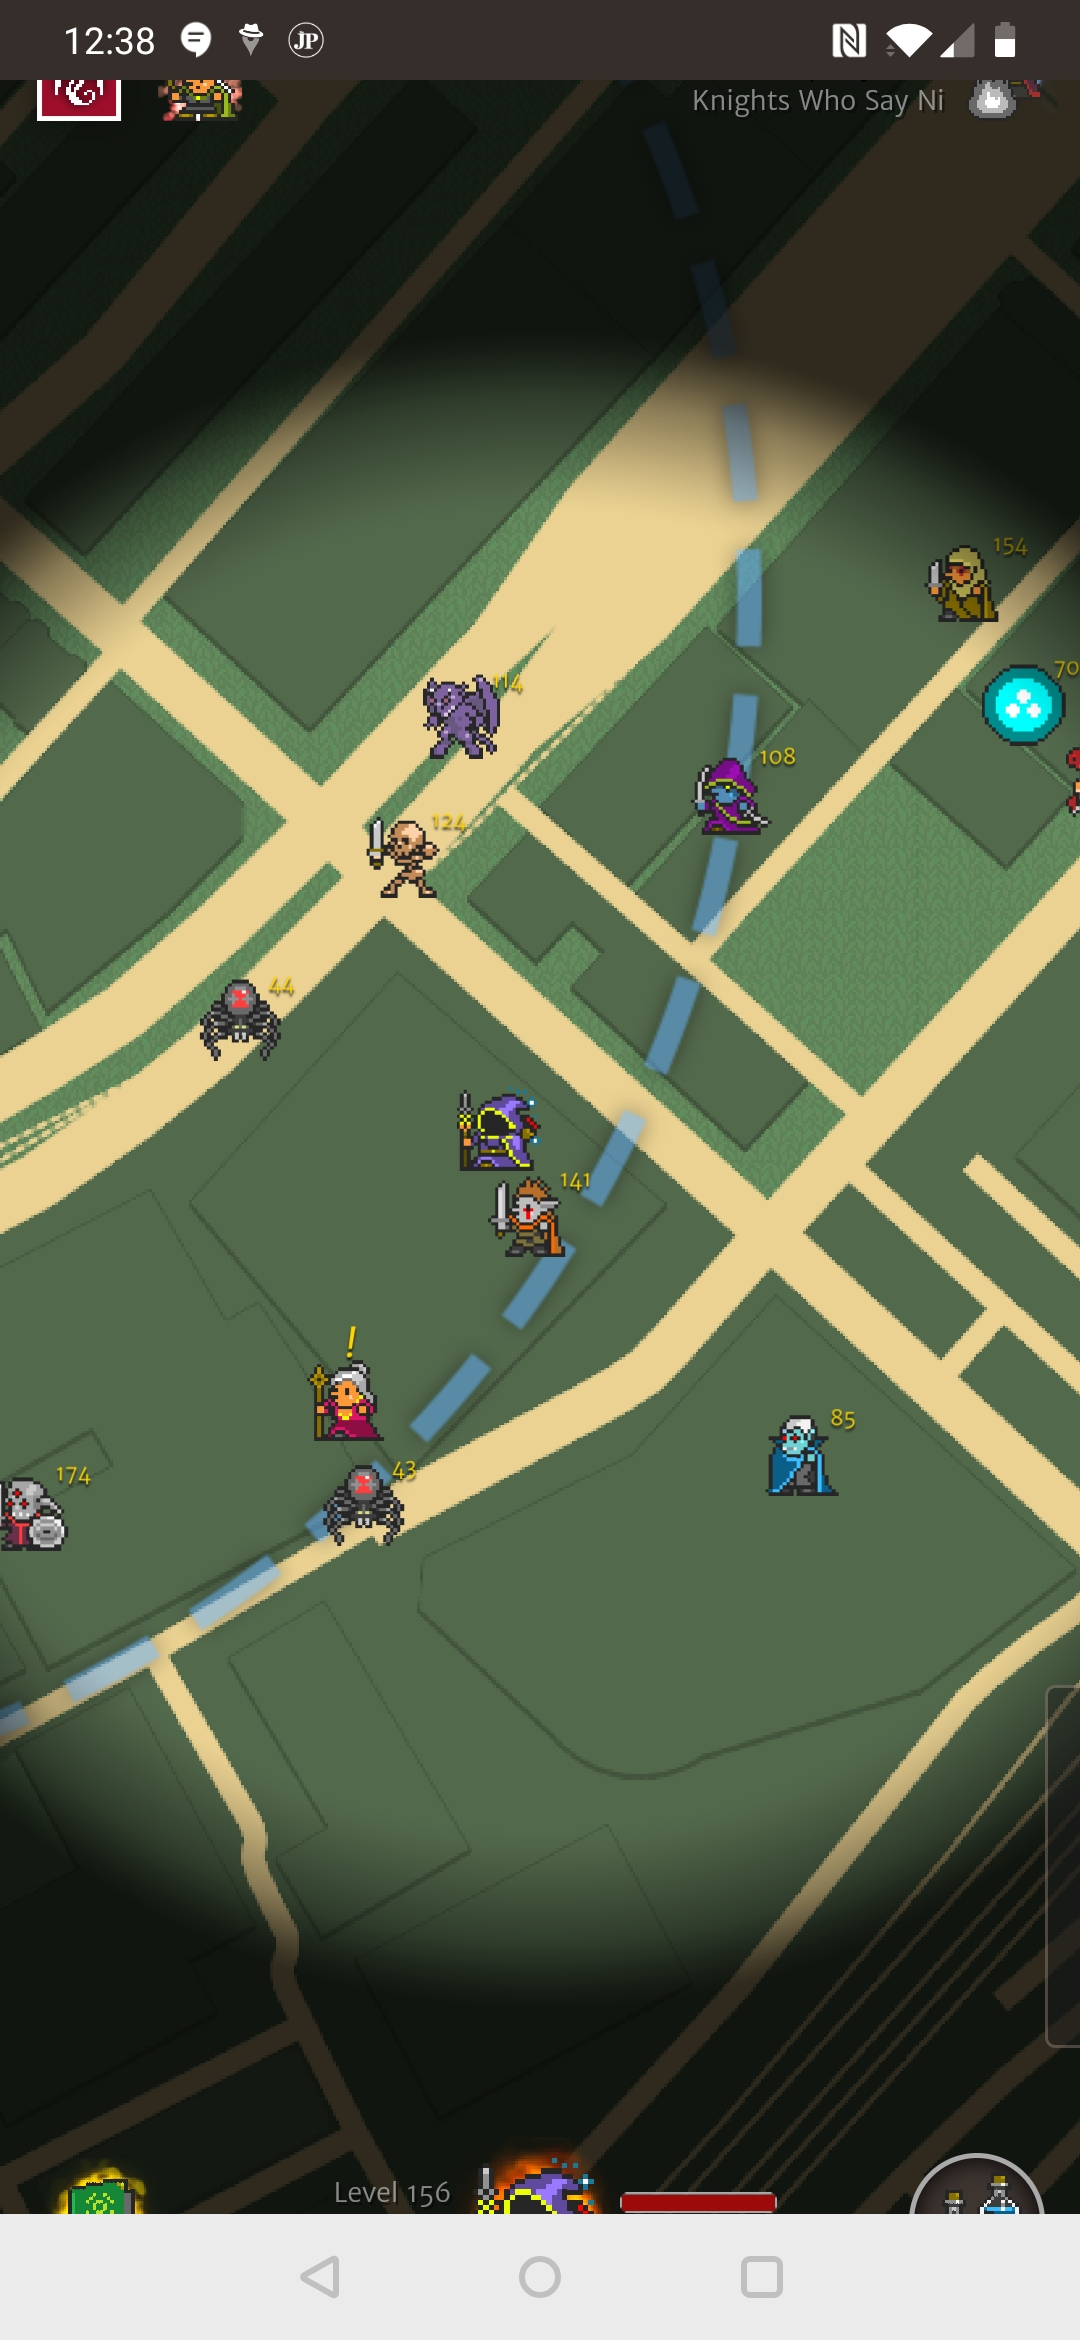monster: (912, 530, 1033, 646), (476, 1168, 606, 1266), (757, 1399, 859, 1517), (190, 970, 302, 1079), (678, 740, 800, 840), (1, 1450, 104, 1560), (414, 675, 537, 760), (353, 807, 461, 901), (310, 1448, 416, 1542), (984, 652, 1076, 750)
player: (457, 1087, 537, 1181)
